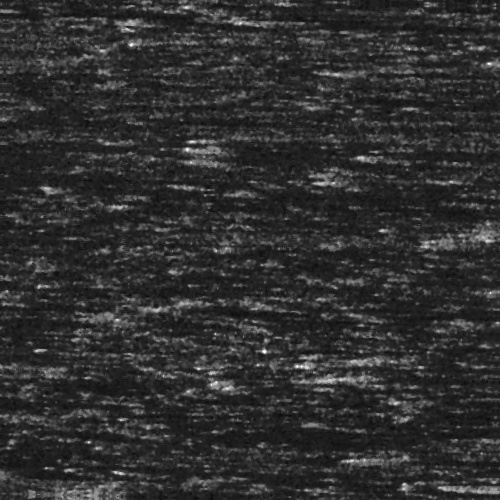object: (175, 183, 268, 200), (315, 448, 420, 459), (278, 371, 403, 380), (218, 15, 311, 26), (434, 476, 500, 485), (179, 145, 242, 152), (299, 67, 382, 72), (450, 226, 491, 235), (146, 225, 209, 230), (309, 176, 350, 181), (461, 51, 500, 56), (336, 150, 399, 153), (336, 273, 367, 278), (406, 393, 427, 398)
shadow: (0, 23, 214, 40), (265, 15, 500, 26), (340, 371, 500, 380), (222, 183, 298, 200), (368, 448, 446, 459), (211, 145, 286, 152), (352, 273, 432, 278), (417, 393, 497, 398), (340, 67, 419, 72), (330, 176, 408, 181), (178, 225, 254, 230), (471, 226, 500, 235), (368, 150, 446, 153), (482, 51, 500, 56), (0, 288, 12, 295)
